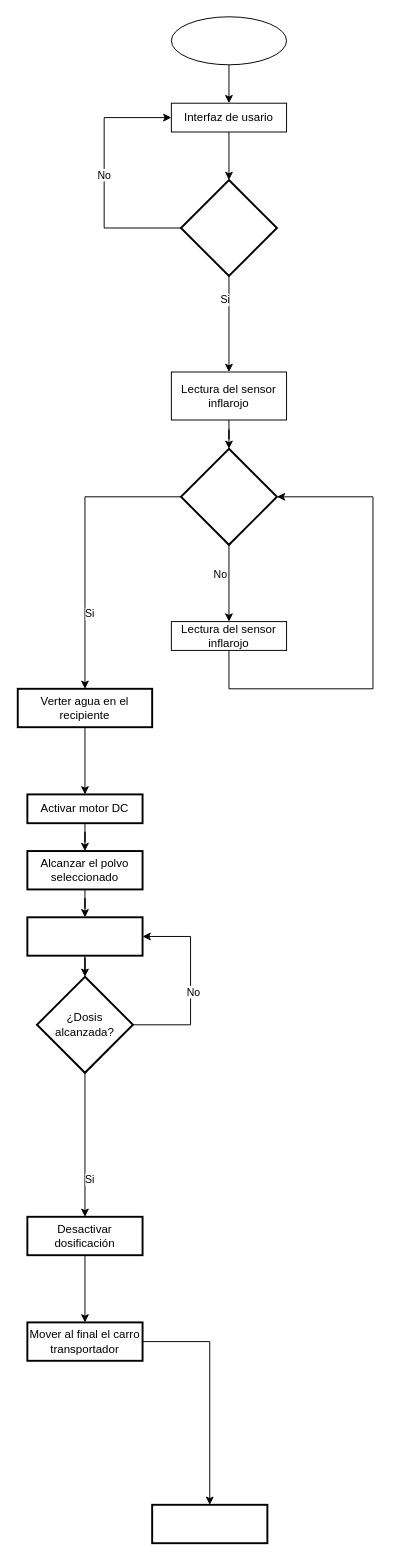
Some shapes in this 397 by 1561 pixel diagram are drawn without their labels. The centre of each missing label's shape, as x and y in pixels:
Activar dosificación: the point at 84,936
Fin: the point at 209,1523
Inicio: the point at 228,40
Sabor elegido: the point at 228,227
¿Recipiente detectado?: the point at 228,496
